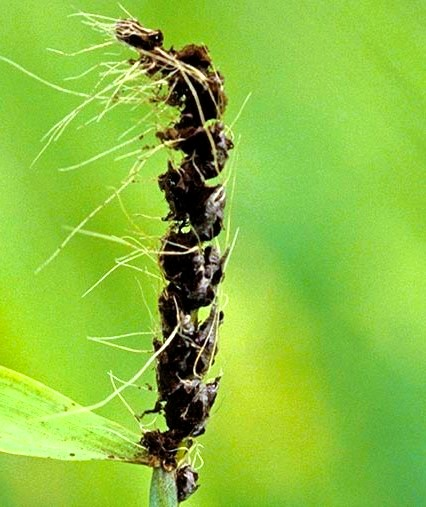Wheat Loose Smut: (127, 59, 237, 373)
